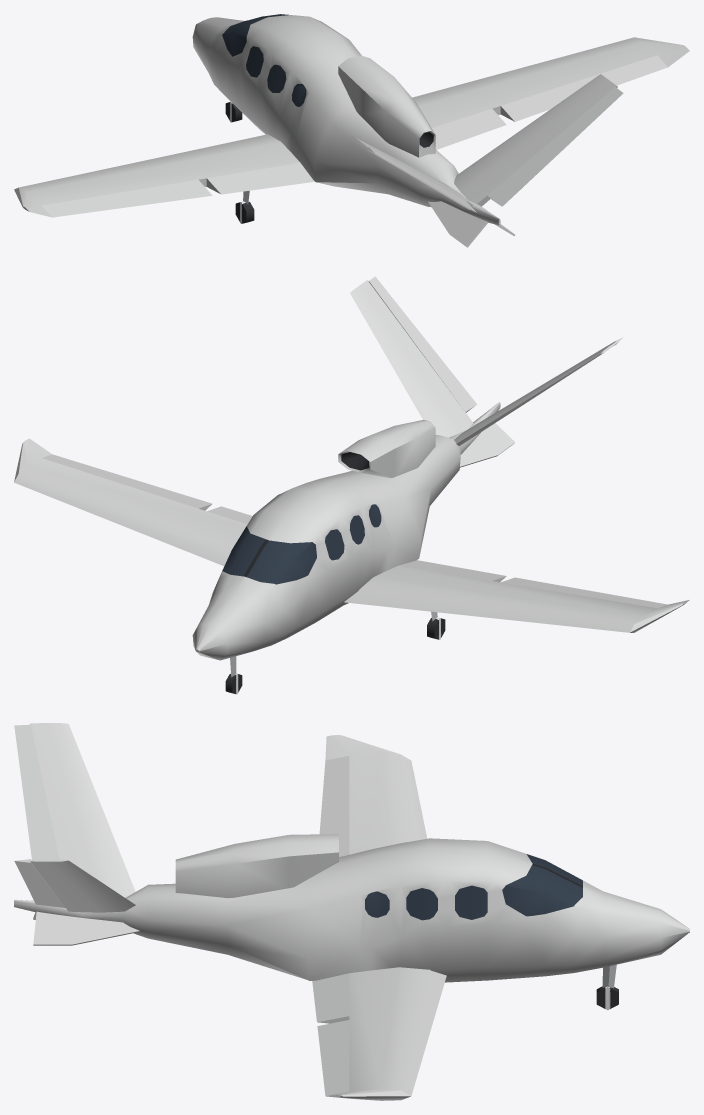
The model's file is Cirrus_Vision_Jet_LOD2.glb.
The picture shows the model from 3 angles, top to bottom: view 1: azimuth 30°, elevation 25°; view 2: azimuth 150°, elevation 25°; view 3: azimuth 270°, elevation 25°; orthographic projection. The views are drawn at different scales.
Parts seen in each view (by area): view 1: Fuselage, Wing_Left, Wing_Right, VTail_Right, Nacelle, Aileron_Left, Ruddervator_Right, Aileron_Right, Flap_Left, Flap_Right, Ruddervator_Left, VTail_Left (+1 smaller); view 2: Fuselage, Wing_Left, Wing_Right, VTail_Right, Nacelle, Ruddervator_Right, Aileron_Right, VTail_Left, Aileron_Left, Flap_Left; view 3: Fuselage, VTail_Left, Wing_Right, Nacelle, Wing_Left, Ruddervator_Left, VTail_Right, Aileron_Left, Aileron_Right, Flap_Right, Ruddervator_Right.
Part boxes in pixels (x1,y1,x2,y2): Fuselage: [192, 14, 500, 225]; Wing_Left: [14, 134, 300, 217]; Wing_Right: [412, 37, 689, 127]; VTail_Right: [428, 74, 617, 247]; Nacelle: [338, 55, 435, 157]; Aileron_Left: [42, 179, 212, 217]; Ruddervator_Right: [487, 87, 623, 206]; Aileron_Right: [500, 55, 667, 121]; Flap_Left: [206, 163, 314, 194]; Flap_Right: [432, 109, 506, 149]; Ruddervator_Left: [367, 147, 476, 212]; VTail_Left: [350, 135, 514, 236]; Fuselage: [192, 402, 500, 660]; Wing_Left: [344, 565, 689, 632]; Wing_Right: [14, 438, 247, 565]; VTail_Right: [350, 280, 515, 467]; Nacelle: [338, 420, 435, 478]; Ruddervator_Right: [368, 276, 476, 412]; Aileron_Right: [42, 454, 212, 510]; VTail_Left: [454, 341, 617, 445]; Aileron_Left: [501, 577, 667, 608]; Flap_Left: [399, 560, 506, 582]; Fuselage: [14, 838, 689, 982]; VTail_Left: [30, 723, 140, 945]; Wing_Right: [326, 967, 446, 1100]; Nacelle: [175, 834, 338, 898]; Wing_Left: [325, 735, 427, 854]; Ruddervator_Left: [14, 724, 59, 859]; VTail_Right: [30, 859, 135, 919]; Aileron_Left: [319, 756, 349, 857]; Aileron_Right: [317, 1020, 349, 1096]; Flap_Right: [312, 973, 349, 1023]; Ruddervator_Right: [14, 859, 65, 907].
Bounding box in the file's own units: 11.8 × 3.32 × 9.36.
5 materials, 1 textured.
